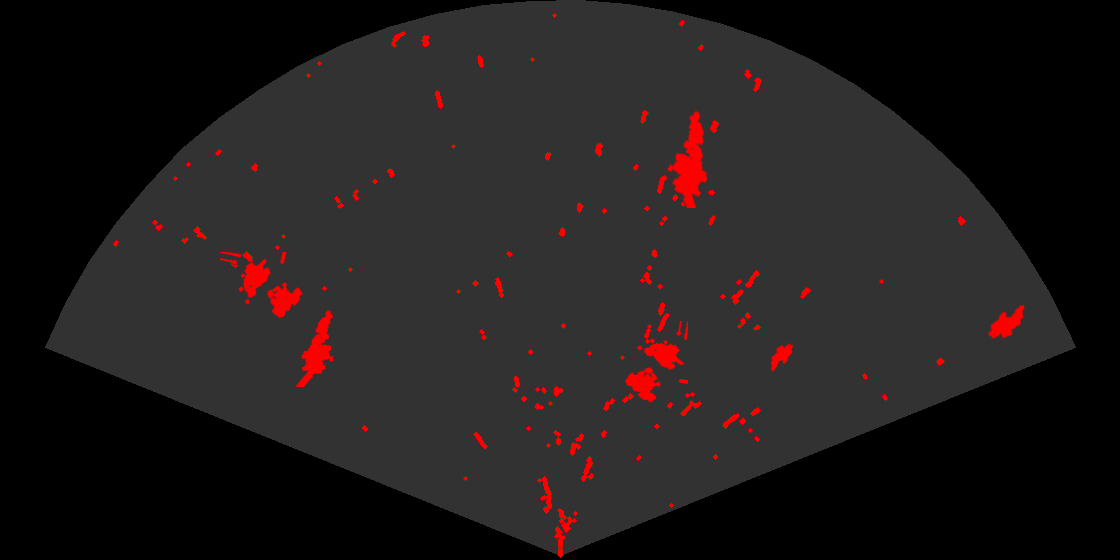AUV: (987, 303, 1026, 340), (769, 341, 795, 373)
cage: (220, 252, 304, 320), (623, 321, 688, 404)
frogman: (665, 109, 709, 208), (294, 309, 335, 387)
